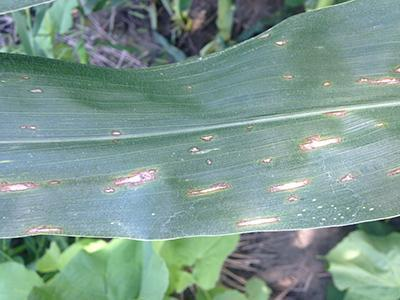Corn leaf blight: (1, 9, 400, 249)
